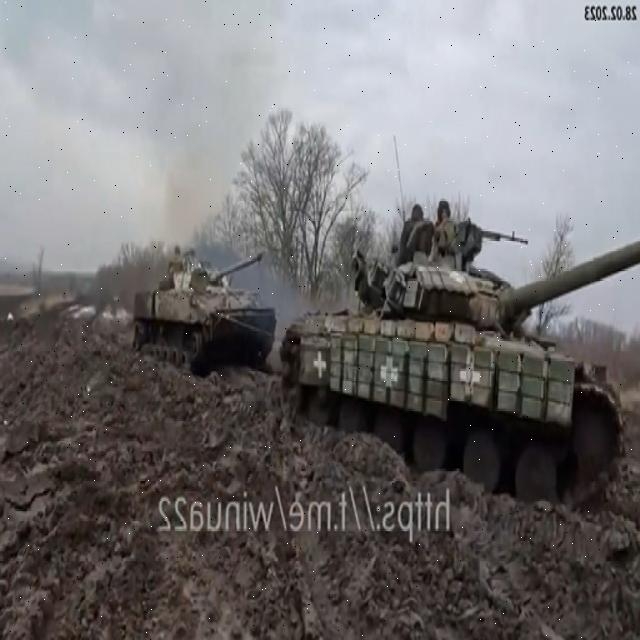APC-IFV: (130, 236, 280, 376)
TANK: (282, 202, 640, 502)
